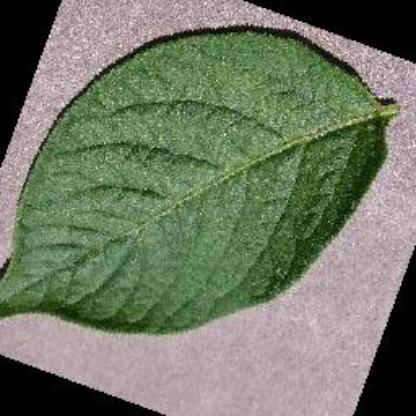Healthy-plant: (0, 22, 410, 348)
